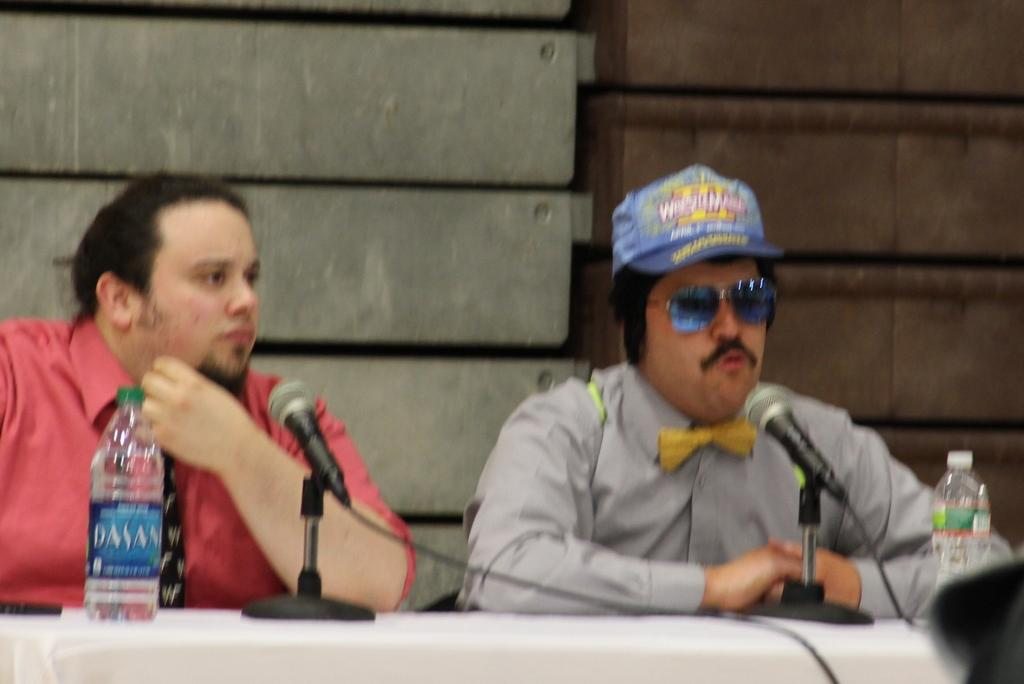Hat: (615, 165, 784, 275)
